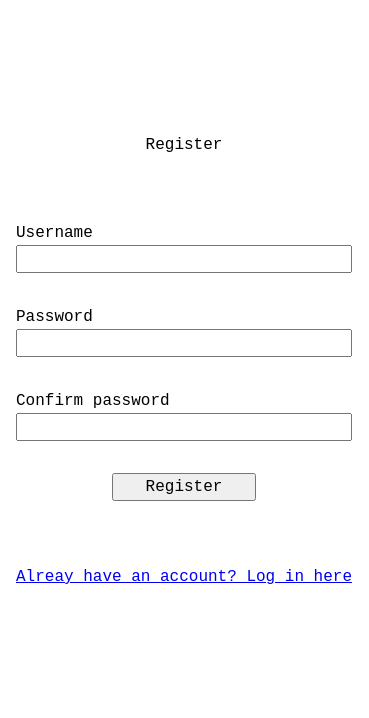
Register component › displays an error on register fetch fail
This screenshot has width=369, height=718.
Type "Username" into the field labelled "Username" at x=184, y=259, box [16, 245, 352, 273]
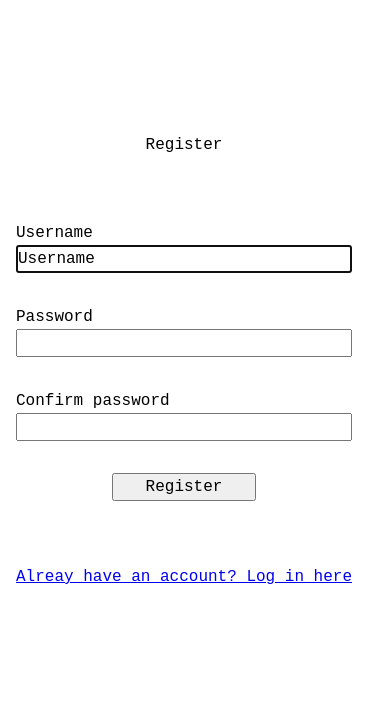
Type "Password" into the field labelled "Password" at x=184, y=343, box [16, 329, 352, 357]
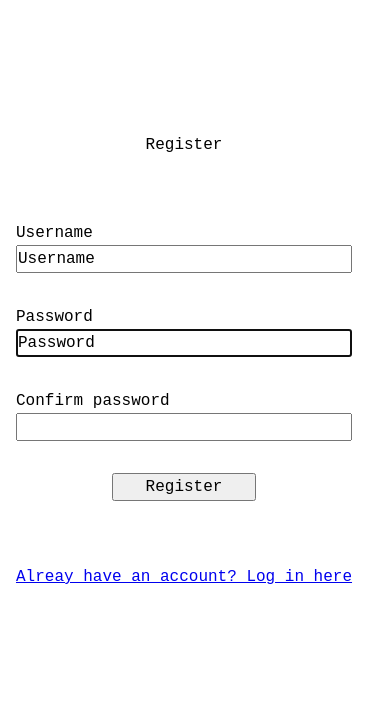
Type "Password" into the field labelled "Confirm password" at x=184, y=427, box [16, 413, 352, 441]
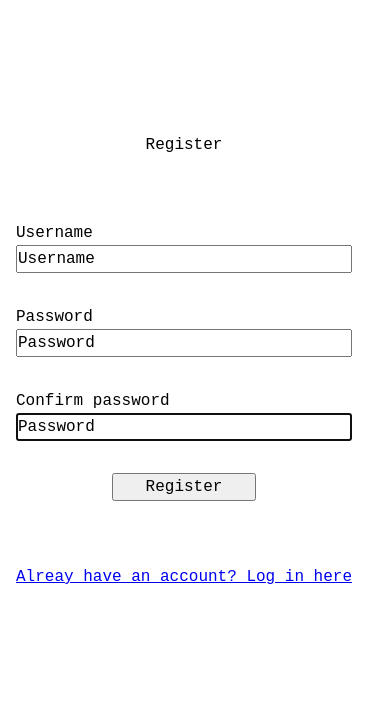
Click the button "Register" at x=184, y=487, box [112, 473, 256, 501]
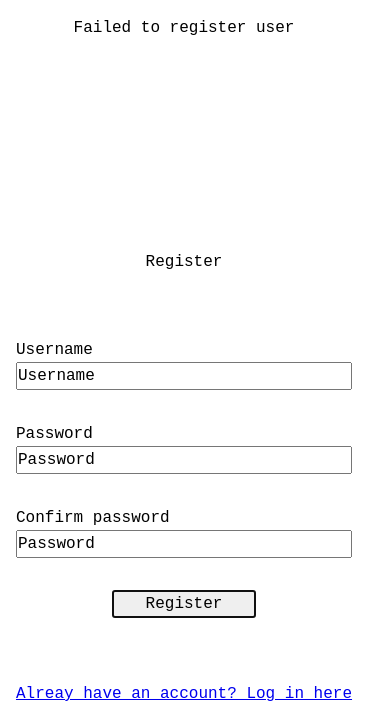
Expected: the text "Failed to register user" is shown, [74, 16, 294, 40]
